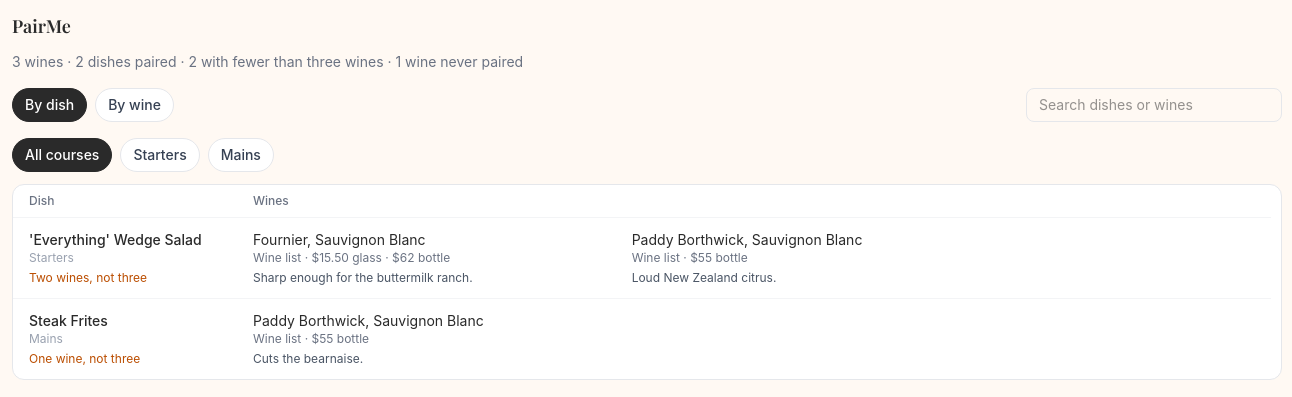
Test: PairmeSection › By wine lists every dish each wine pairs with, joined by id, not by the shared label
Click the tab "By wine" at {"x": 134, "y": 105}, box [95, 88, 174, 122]
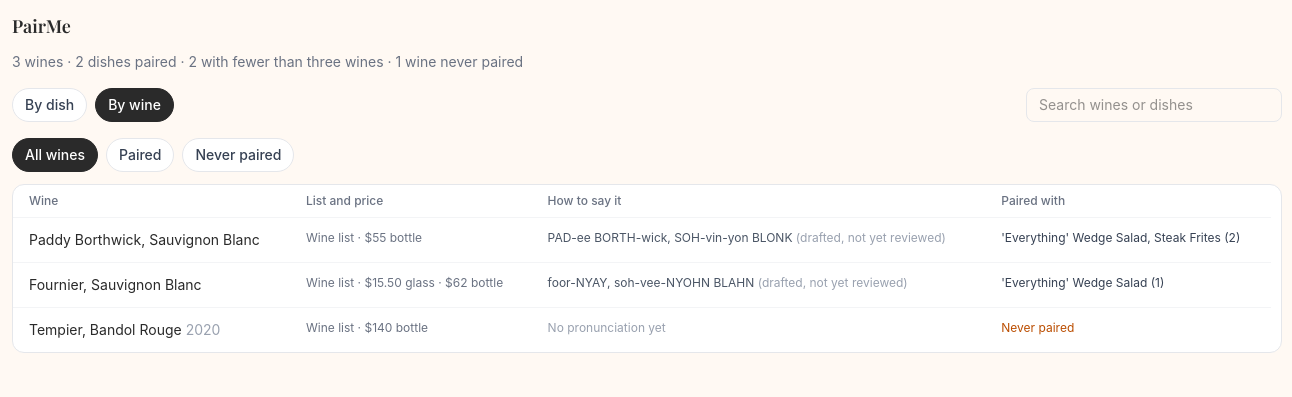
Result: the button "Never paired" is shown at [182, 138, 294, 172]
